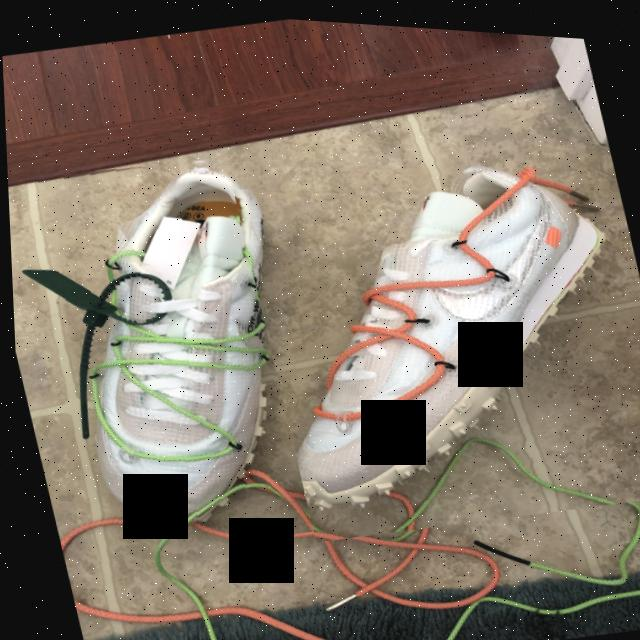shoe: (230, 114, 640, 557), (20, 132, 341, 569)
